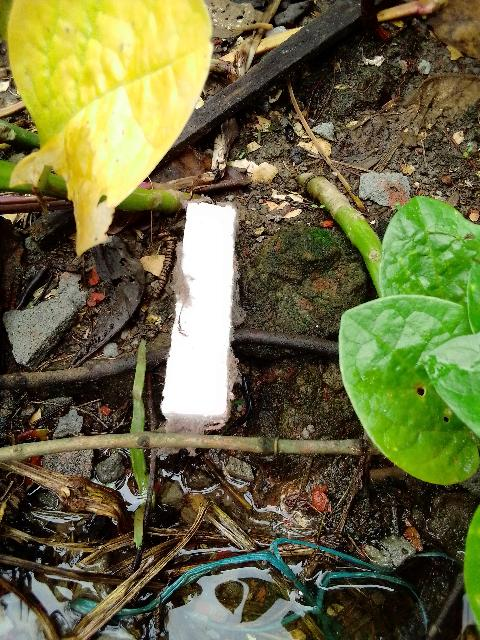cocksheet: (144, 185, 266, 449)
